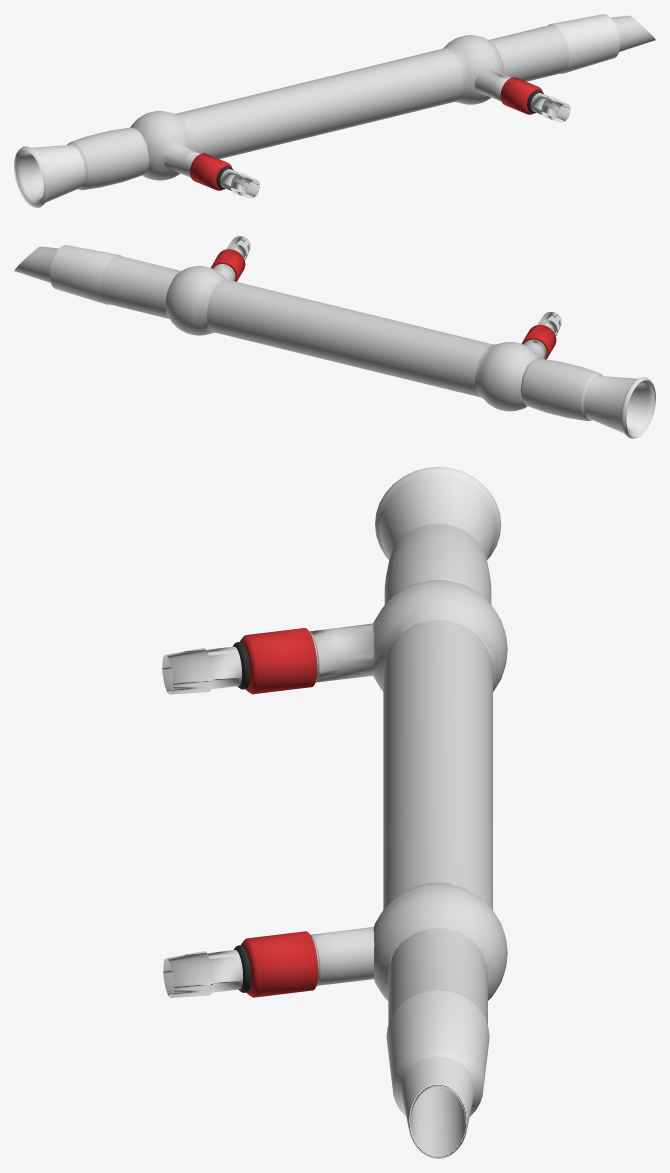
The model's file is WaterCondensor - Copy.fbx.
3 views of the same model, one above another, from view 1: azimuth 30°, elevation 25°; view 2: azimuth 150°, elevation 25°; view 3: azimuth 270°, elevation 25° (orthographic). The views are drawn at different scales.
Parts seen in each view (by area): view 1: WaterCondensor; view 2: WaterCondensor; view 3: WaterCondensor.
Boxes of the visible parts, x1,y1,x2,y2 form: WaterCondensor: [14, 14, 655, 207]; WaterCondensor: [14, 236, 655, 438]; WaterCondensor: [162, 467, 507, 1158].
Bounding box in the file's own units: 36.21 × 3.5 × 8.67.
